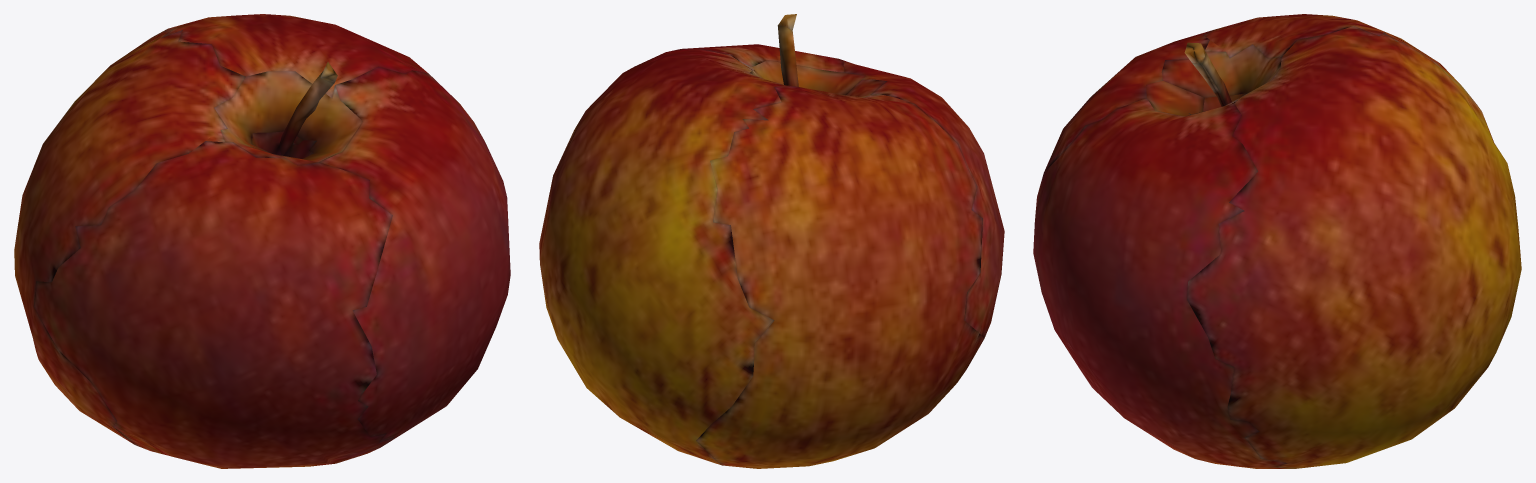
Rendered from food_apple_01.glb.
The picture shows the model from 3 angles, left to right: view 1: azimuth 30°, elevation 25°; view 2: azimuth 150°, elevation 25°; view 3: azimuth 270°, elevation 25°; orthographic projection. The views are drawn at different scales.
Visible parts, largest first — view 1: food_apple_01; view 2: food_apple_01; view 3: food_apple_01.
Boxes of the visible parts, left/top/right/bottom form: food_apple_01: left=14, top=14, right=510, bottom=468; food_apple_01: left=539, top=14, right=1004, bottom=468; food_apple_01: left=1033, top=14, right=1521, bottom=468.
Size of the model in its own units: 0.0973 by 0.0854 by 0.0958.
1 material, 1 textured.
